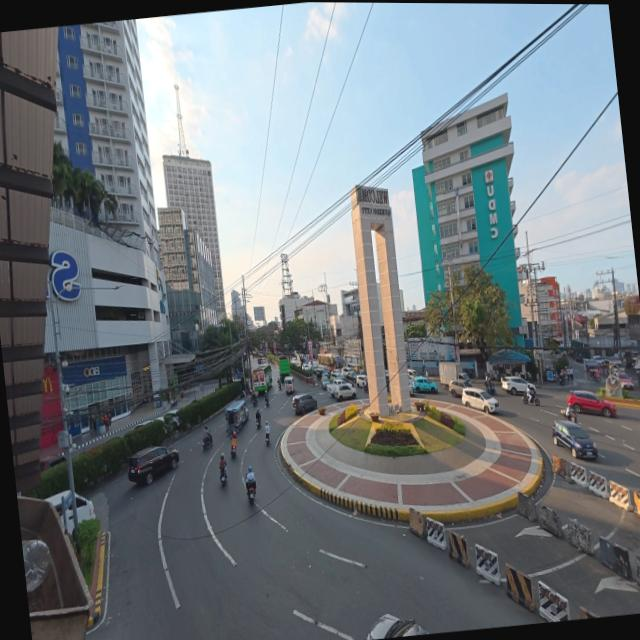car: (124, 442, 182, 488), (550, 415, 598, 463), (563, 388, 616, 422), (458, 383, 498, 416), (502, 372, 538, 400), (408, 375, 440, 397), (329, 379, 357, 402), (290, 392, 316, 416)
